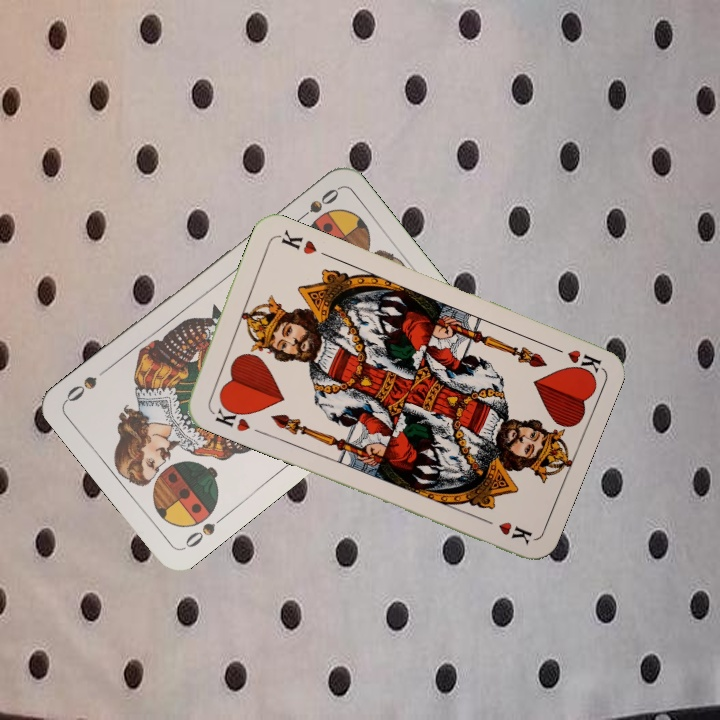HK: (545, 341, 604, 378), (206, 398, 253, 435)
SO: (291, 184, 342, 226), (179, 510, 229, 552)
